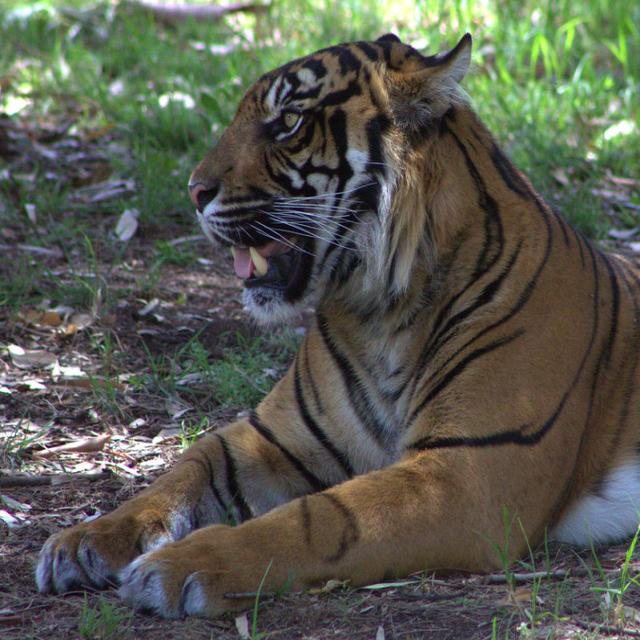Tiger: (34, 24, 634, 624)
